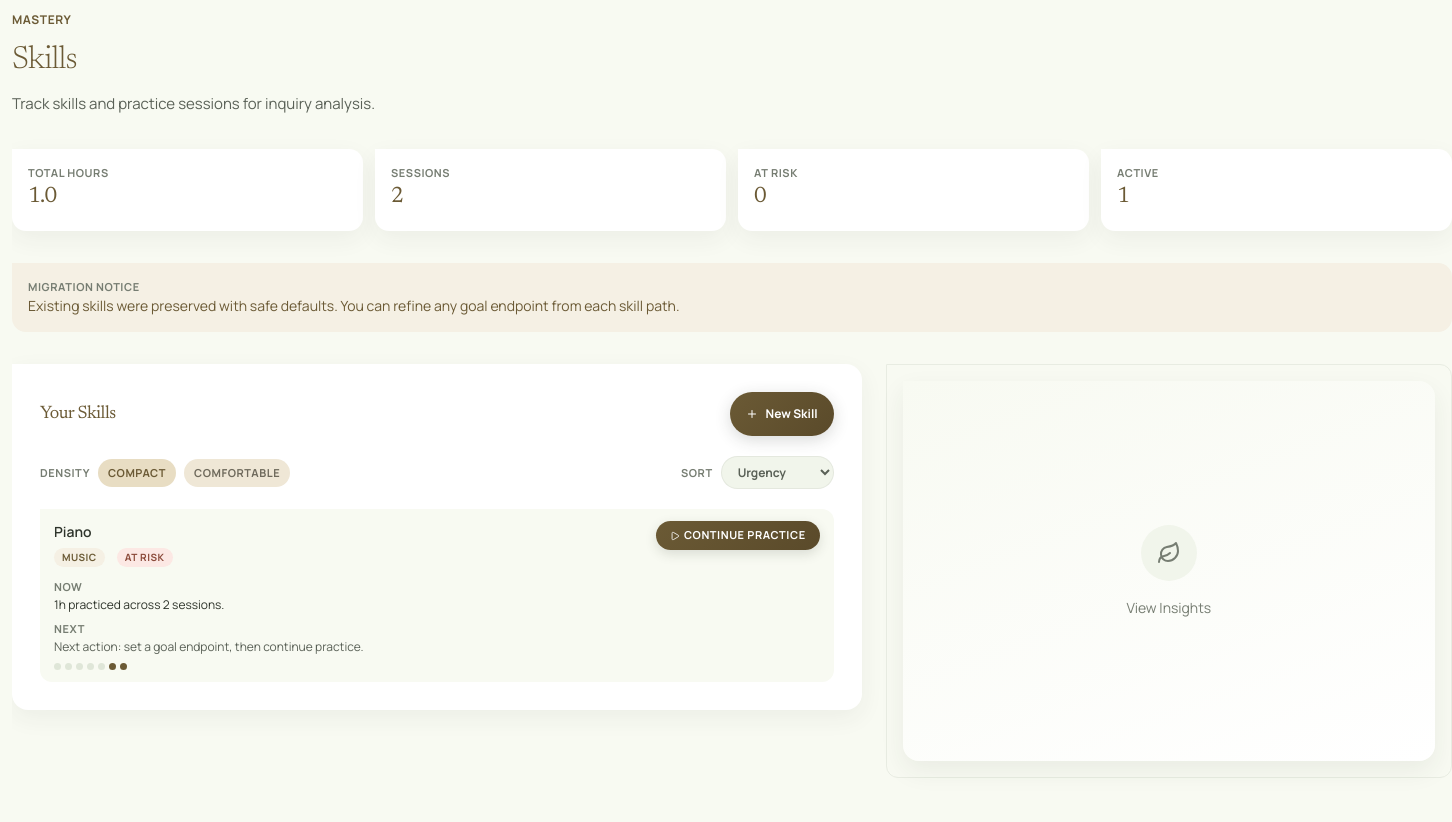
Test: SkillsPage create flow rollout behavior › renders forecast reason copy when forecast data is available
Click the button with aria-label "open details for piano" at (73, 532), box top-left (40, 509), bottom-right (834, 682)
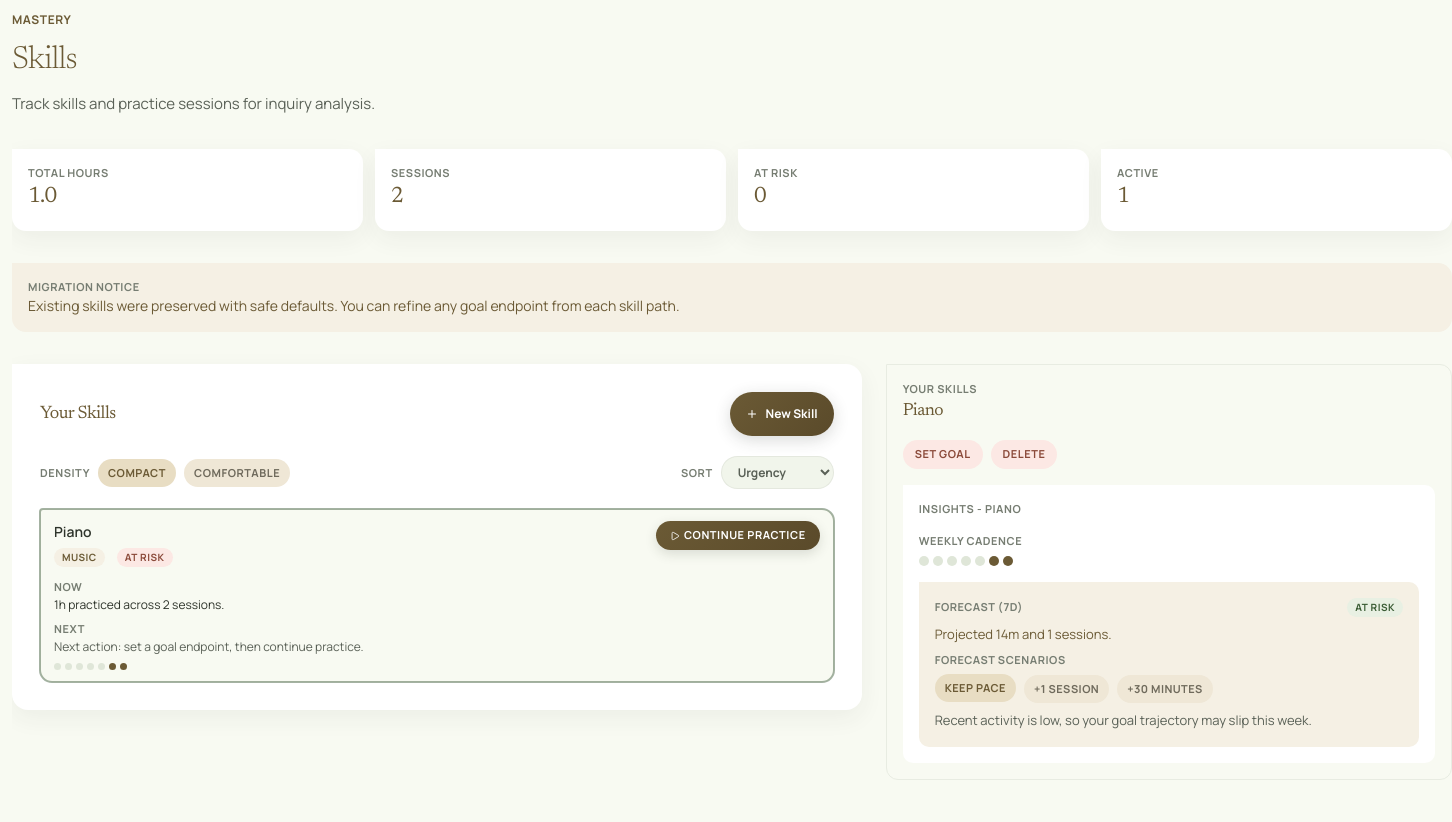
Result: the text "Forecast (7d)" is shown at top-left (935, 599), bottom-right (1023, 616)
Result: the text "Recent activity is low, so your goal trajectory may slip this week." is shown at top-left (935, 711), bottom-right (1312, 729)
